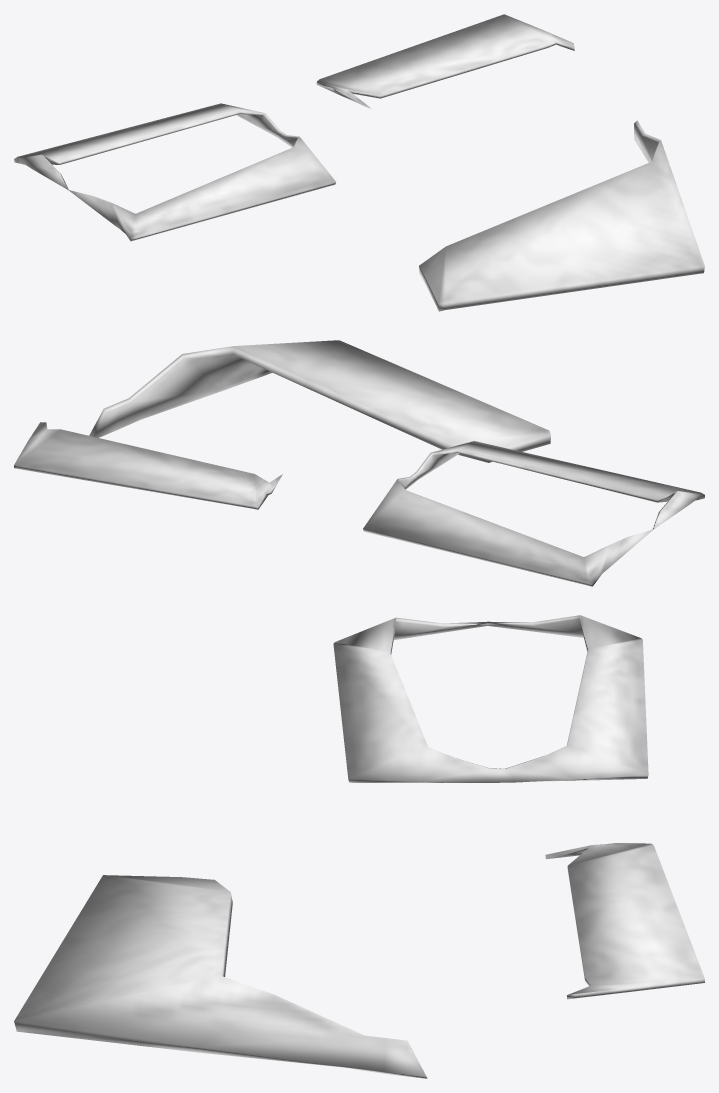
Rendered from TentScraps_White.obj.
3 renders of one model, top to bottom at view 1: azimuth 30°, elevation 25°; view 2: azimuth 150°, elevation 25°; view 3: azimuth 270°, elevation 25°, orthographic. The views are drawn at different scales.
Visible parts, largest first — view 1: TentScraps.001_Material, TentScraps.002_Material, TentScraps_Material; view 2: TentScraps.001_Material, TentScraps.002_Material, TentScraps_Material; view 3: TentScraps.001_Material, TentScraps.002_Material, TentScraps_Material.
Boxes of the visible parts, bbox=[...] form: TentScraps.001_Material: bbox=[419, 120, 704, 311]; TentScraps.002_Material: bbox=[14, 103, 335, 241]; TentScraps_Material: bbox=[316, 14, 574, 108]; TentScraps.001_Material: bbox=[89, 340, 550, 462]; TentScraps.002_Material: bbox=[363, 441, 704, 586]; TentScraps_Material: bbox=[14, 422, 282, 509]; TentScraps.001_Material: bbox=[14, 875, 427, 1078]; TentScraps.002_Material: bbox=[333, 615, 648, 782]; TentScraps_Material: bbox=[545, 843, 704, 999].
Bounding box in the file's own units: 5.78 × 0.8765 × 4.6.
